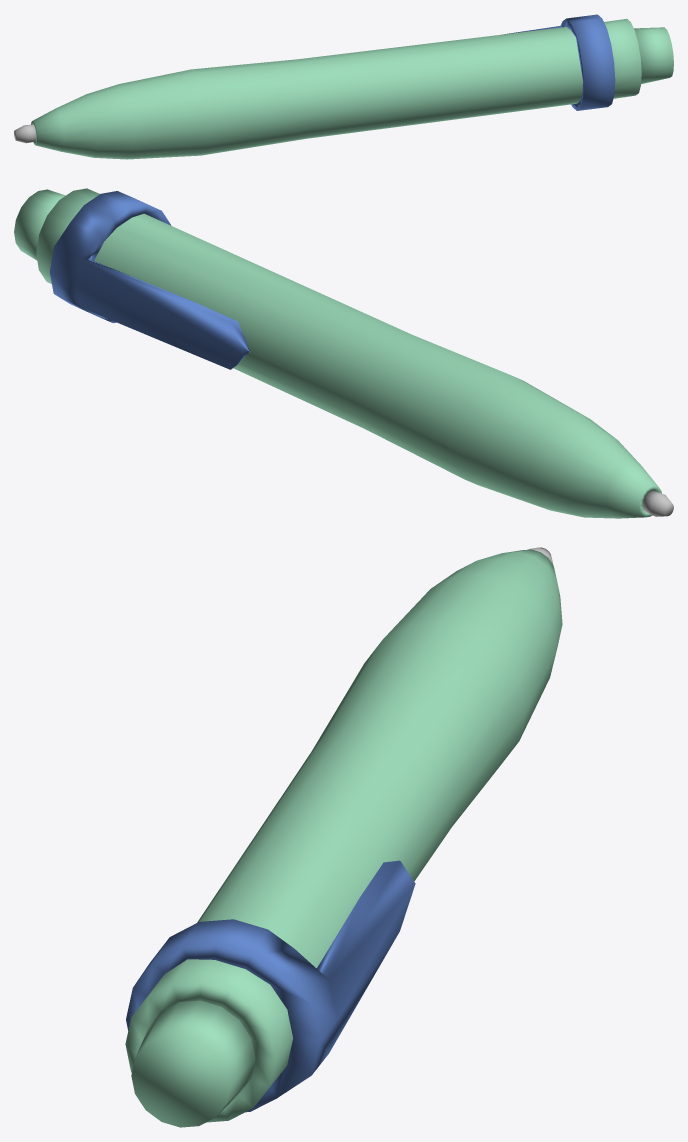
The model's file is pen.fbx.
3 views of the same model, one above another, from view 1: azimuth 30°, elevation 25°; view 2: azimuth 150°, elevation 25°; view 3: azimuth 270°, elevation 25° (orthographic). The views are drawn at different scales.
Parts seen in each view (by area): view 1: pen.001, pen.002, pen.003, pen.004; view 2: pen.001, pen.002, pen.003, pen.004; view 3: pen.001, pen.002, pen.003.
Boxes of the visible parts, x1=… form: pen.001: x1=31, y1=18, x2=641, y2=159; pen.002: x1=502, y1=14, x2=615, y2=110; pen.003: x1=634, y1=27, x2=673, y2=84; pen.004: x1=14, y1=124, x2=36, y2=143; pen.001: x1=36, y1=188, x2=661, y2=518; pen.002: x1=49, y1=191, x2=249, y2=369; pen.003: x1=14, y1=189, x2=65, y2=260; pen.004: x1=642, y1=490, x2=673, y2=516; pen.001: x1=125, y1=549, x2=562, y2=1122; pen.002: x1=126, y1=860, x2=415, y2=1112; pen.003: x1=131, y1=1000, x2=255, y2=1127.
Bounding box in the file's own units: 1.06 × 3.18 × 0.4765.
